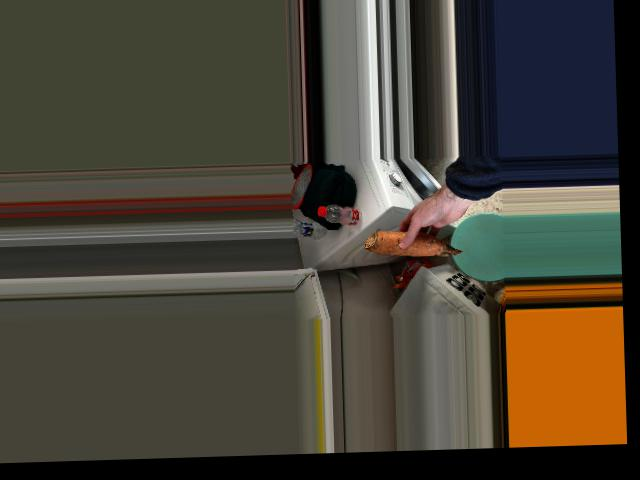sweet_potato: (370, 229, 460, 257)
